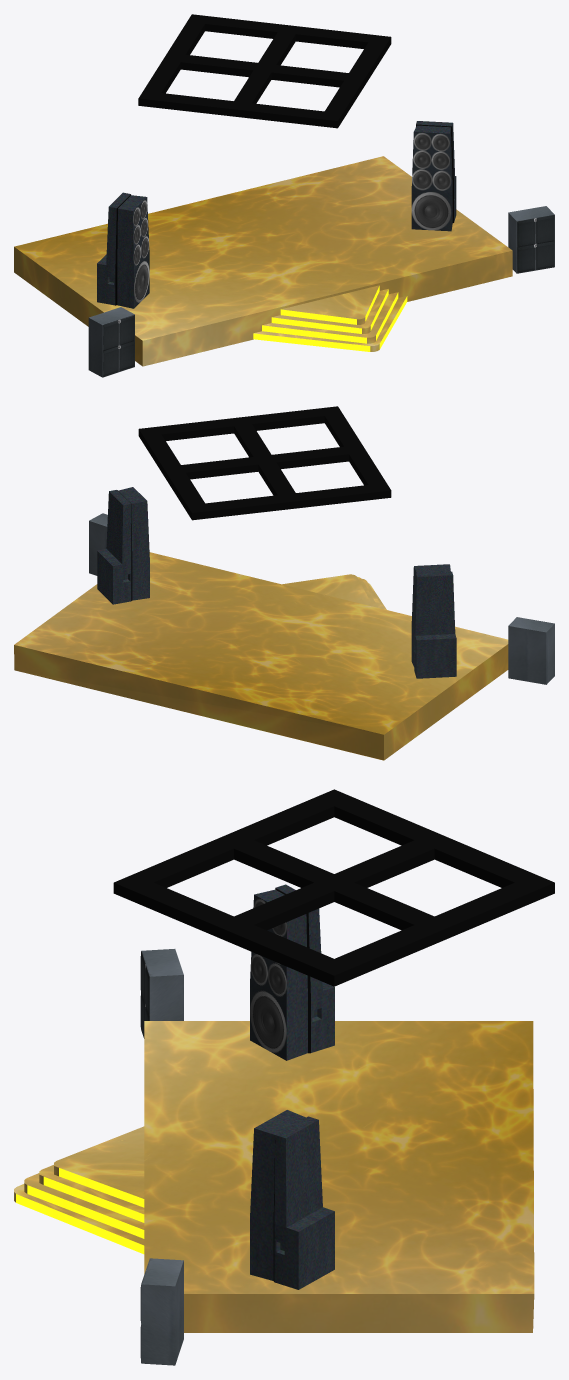
Rendered from stage-dcl.glb.
The picture shows the model from 3 angles, top to bottom: view 1: azimuth 30°, elevation 25°; view 2: azimuth 150°, elevation 25°; view 3: azimuth 270°, elevation 25°; orthographic projection. The views are drawn at different scales.
Parts seen in each view (by area): view 1: polySurface27, Cube.003_2, pCube22_polySurface23_polySurface23, polySurface17, polySurface9; view 2: polySurface27, Cube.003_2, pCube22_polySurface23_polySurface23, polySurface17, polySurface9; view 3: polySurface27, Cube.003_2, pCube22_polySurface23_polySurface23, polySurface9, polySurface17.
Boxes of the visible parts, x1,y1,x2,y2 form: polySurface27: (14, 156, 512, 366); Cube.003_2: (138, 14, 391, 128); pCube22_polySurface23_polySurface23: (97, 121, 456, 308); polySurface17: (88, 307, 134, 377); polySurface9: (508, 206, 554, 273); polySurface27: (14, 552, 508, 760); Cube.003_2: (138, 406, 391, 520); pCube22_polySurface23_polySurface23: (97, 487, 456, 678); polySurface17: (508, 617, 554, 684); polySurface9: (89, 513, 107, 575); polySurface27: (14, 1021, 534, 1332); Cube.003_2: (113, 789, 554, 986); pCube22_polySurface23_polySurface23: (250, 884, 334, 1289); polySurface9: (140, 1258, 183, 1365); polySurface17: (140, 949, 183, 1038).
Size of the model in its own units: 11.69 by 5.07 by 7.92.
7 materials, 3 textured.
